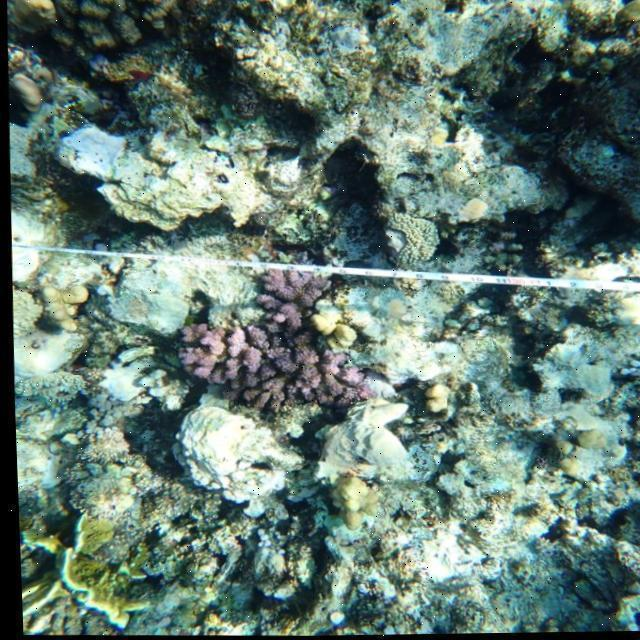Bleached Coral: (150, 392, 301, 513), (346, 291, 441, 394), (49, 116, 146, 189), (370, 208, 447, 278), (396, 521, 483, 580)
